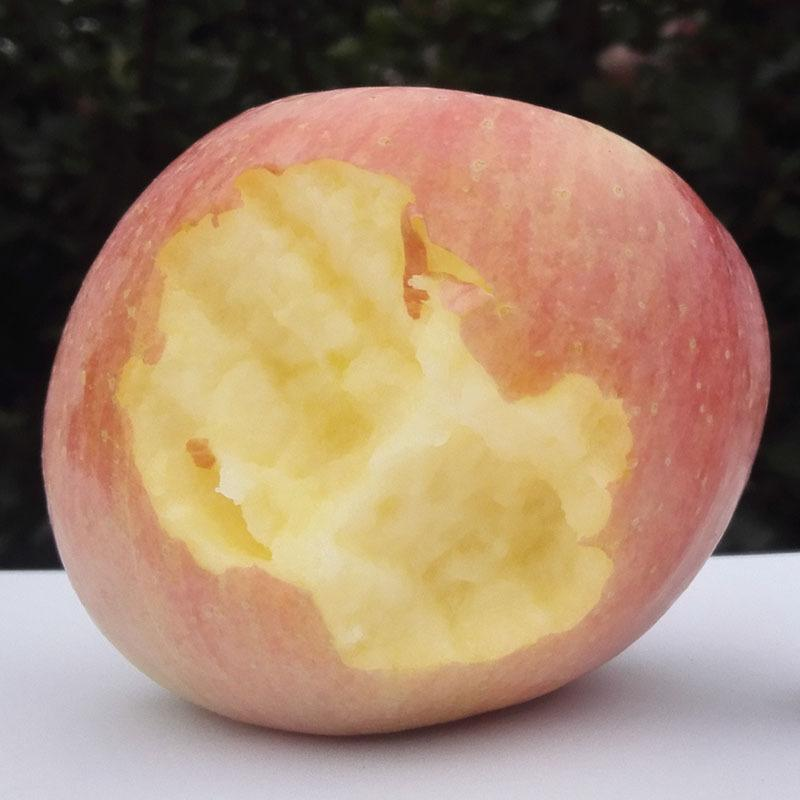apple: (32, 90, 769, 733)
